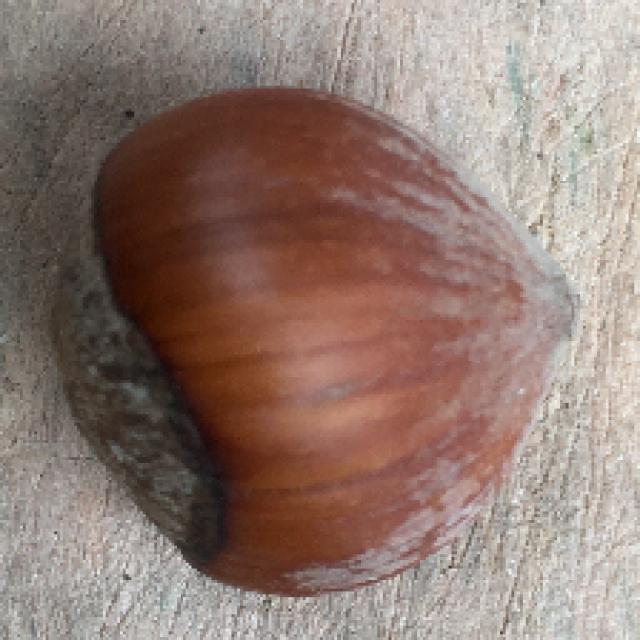qualityHazelnut: (42, 80, 584, 598)
